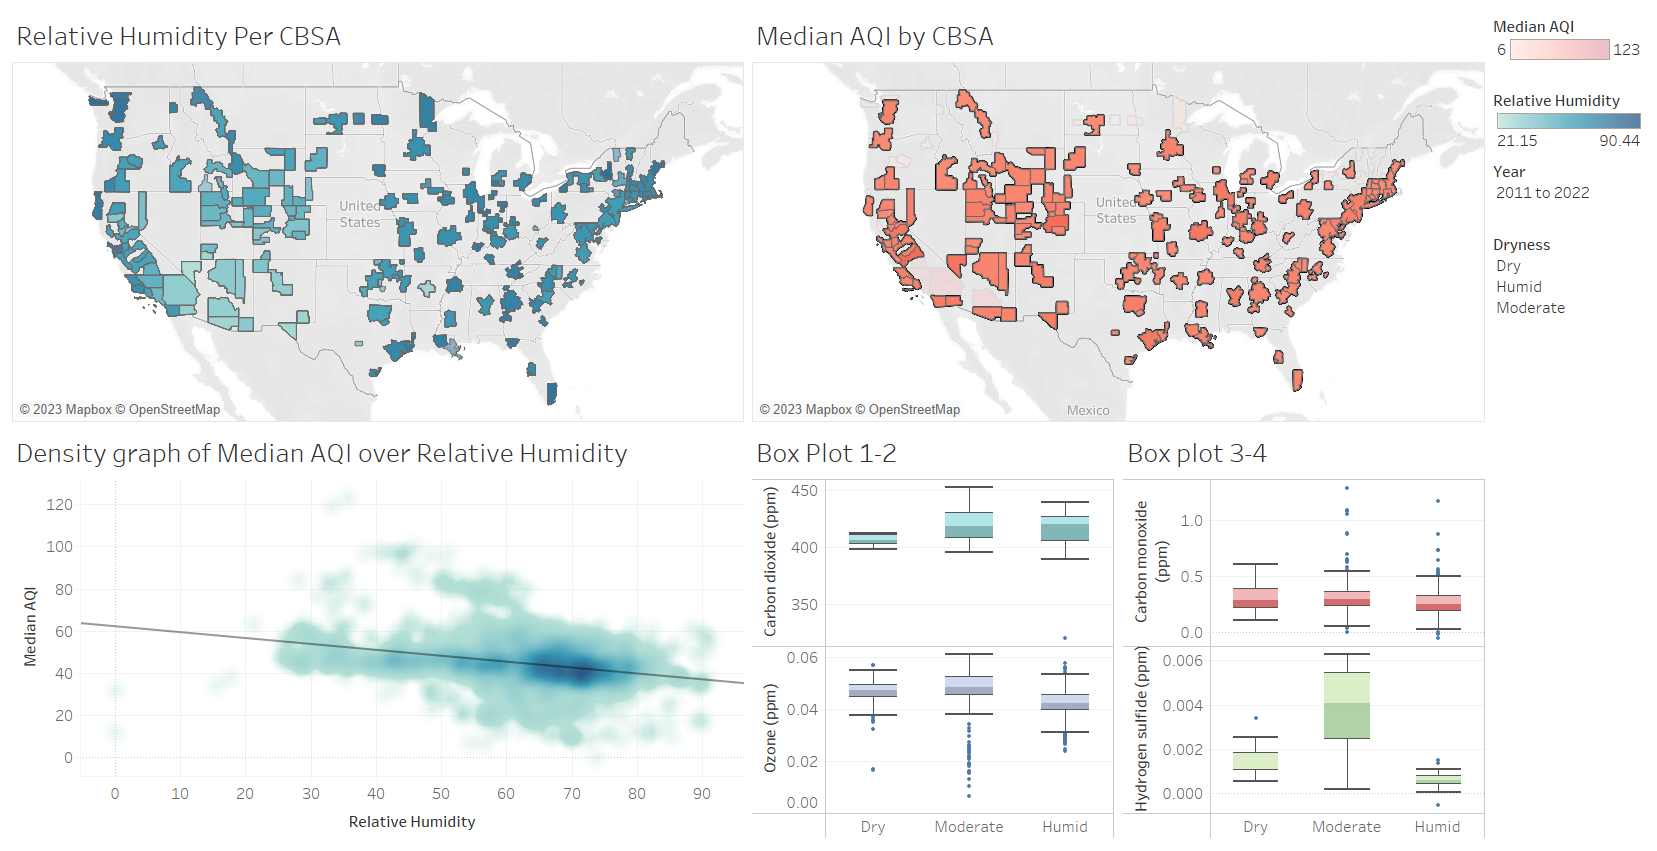

What the dashboard file says about the page in this screenshot:
{"tool":"tableau","page":{"name":"Dashboard 2","canvas":[1000,1000],"units":"permille","ordinal":1},"visuals":[{"type":"worksheet","title":"Graph2A","mark":"Automatic","box":[4.8,9.4,446.9,490.6]},{"type":"worksheet","title":"Graph2B","mark":"Multipolygon","box":[451.7,9.4,446.9,490.6]},{"type":"legend","title":"Graph2B","param":"[federated.0klpfax0jnapg918iaxce1l97rap].[none:Median AQI:qk]","box":[898.6,9.4,96.6,85.8]},{"type":"legend","title":"Graph2A","param":"[federated.0klpfax0jnapg918iaxce1l97rap].[none:Relative Humidity :qk]","box":[898.6,95.2,96.6,85.8]},{"type":"filter","title":"Graph2A","param":"[federated.0klpfax0jnapg918iaxce1l97rap].[none:Year:qk]","box":[898.6,181,96.6,85.8]},{"type":"filter","title":"Graph2A","param":"[federated.0klpfax0jnapg918iaxce1l97rap].[attr:Dryness:nk]","box":[898.6,266.7,96.6,177.4]},{"type":"worksheet","title":"Graph2C","mark":"Heatmap","rows":["Median AQI"],"cols":["Relative Humidity "],"box":[4.8,500,446.9,490.6]},{"type":"worksheet","title":"Graph2D","mark":"Automatic","rows":["Carbon dioxide","Ozone"],"cols":["Dryness"],"box":[451.7,500,223.4,490.6]},{"type":"worksheet","title":"Graph2E","mark":"Automatic","rows":["Carbon monoxide","Hydrogen sulfide"],"cols":["Dryness"],"box":[675.1,500,223.5,490.6]}]}

Visuals, with their boxes on the dashboard's canvas, which has no fixed pixel size, in thousandths of its width and height (x1, y1, x2, y2). These are canvas units, not pixel positions in the 1657x851 screenshot, which may show the page scaled, cropped or inside an application window:
"Graph2A" worksheet: (left=5, top=9, right=452, bottom=500)
"Graph2B" worksheet (Multipolygon marks): (left=452, top=9, right=899, bottom=500)
"Graph2B" legend: (left=899, top=9, right=995, bottom=95)
"Graph2A" legend: (left=899, top=95, right=995, bottom=181)
"Graph2A" filter: (left=899, top=181, right=995, bottom=267)
"Graph2A" filter: (left=899, top=267, right=995, bottom=444)
"Graph2C" worksheet (Heatmap marks): (left=5, top=500, right=452, bottom=991)
"Graph2D" worksheet: (left=452, top=500, right=675, bottom=991)
"Graph2E" worksheet: (left=675, top=500, right=899, bottom=991)
